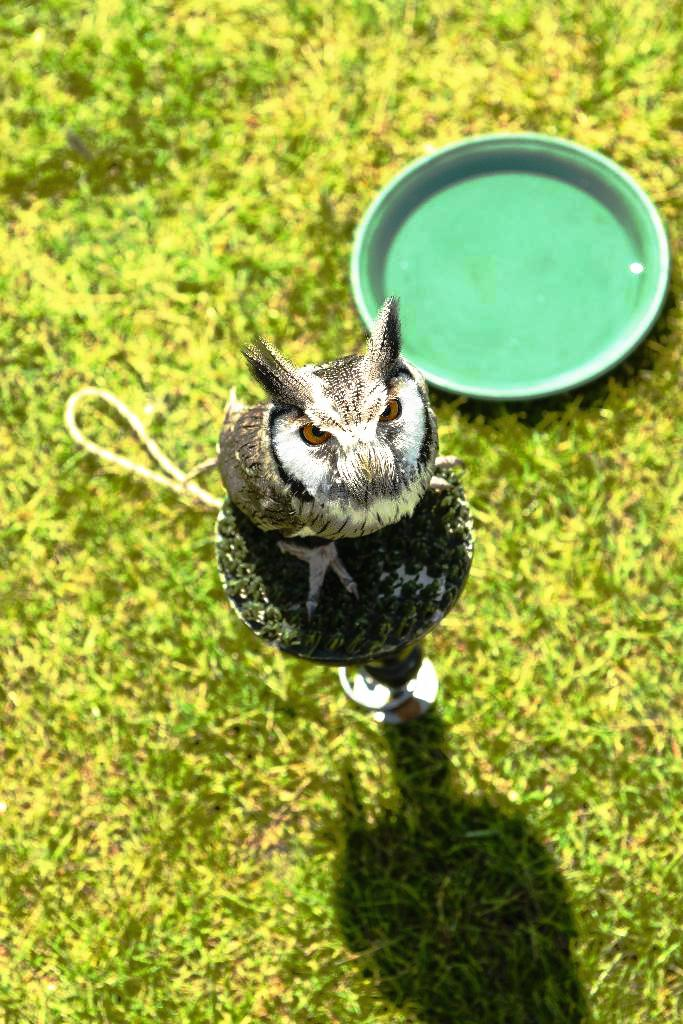Owl: (214, 300, 498, 704)
